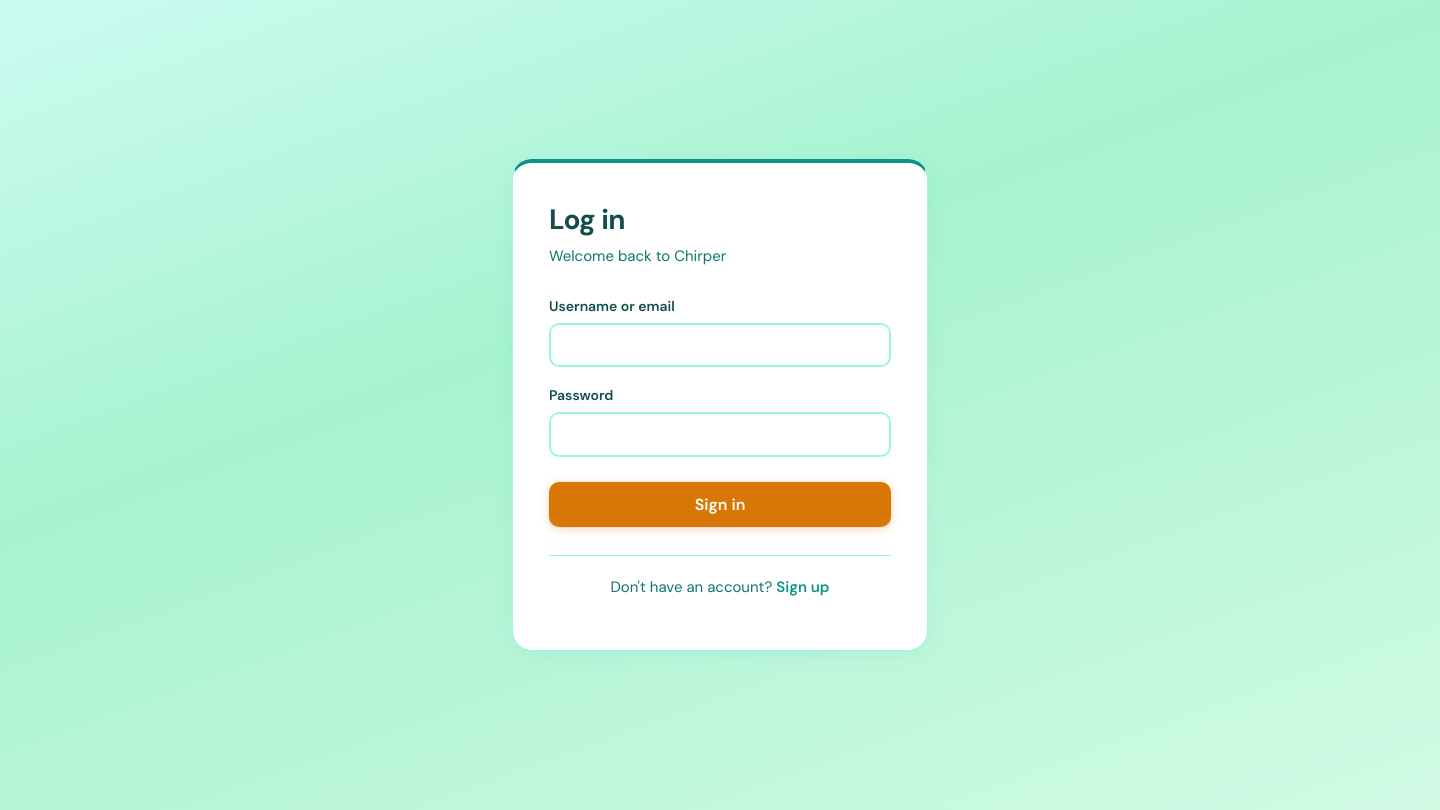
Test: Login › shows error on 401
Type "alice" into the field labelled "Username or email" at (720, 345), box [549,323,891,367]
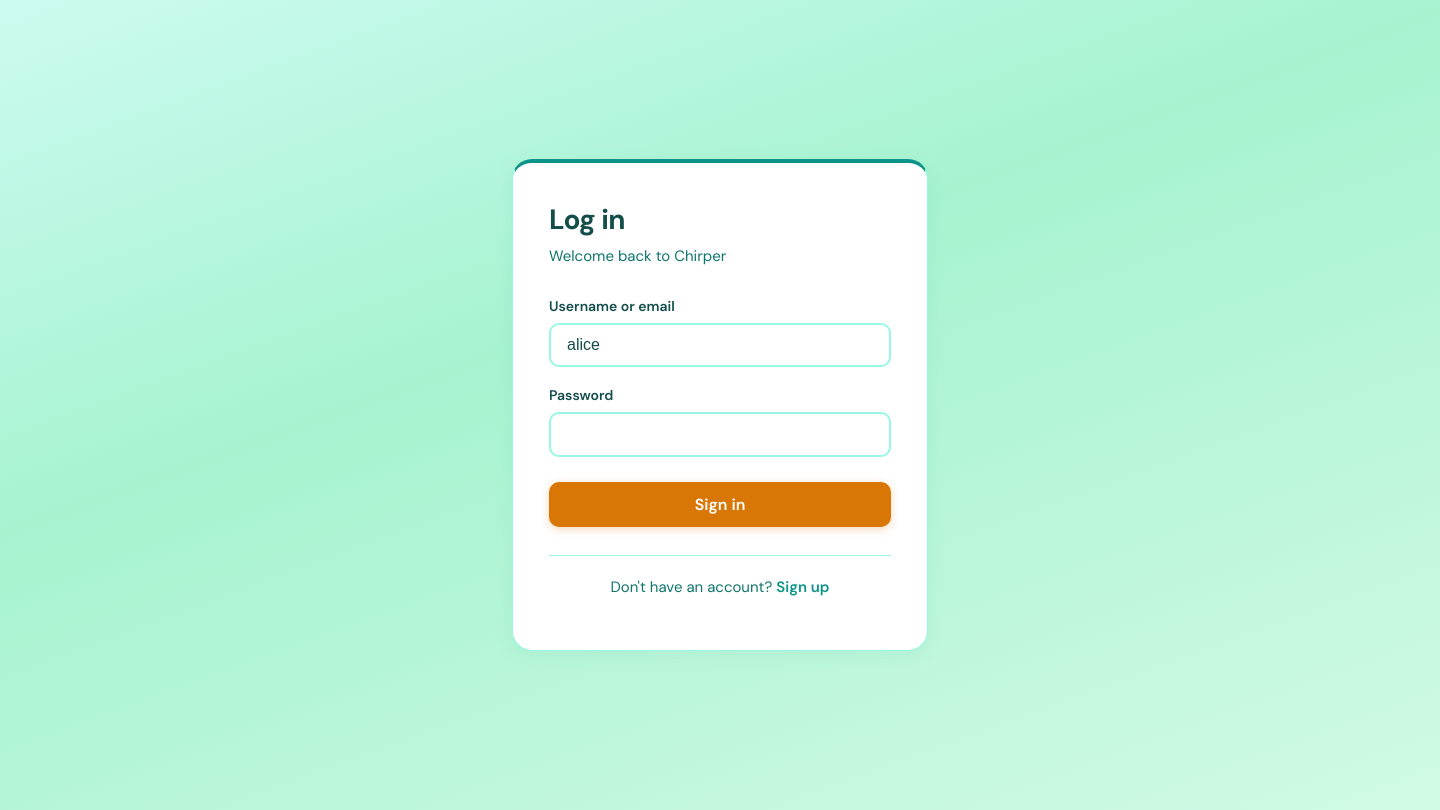
Type "wrong" into the password field labelled "Password" at (720, 435), box [549,412,891,457]
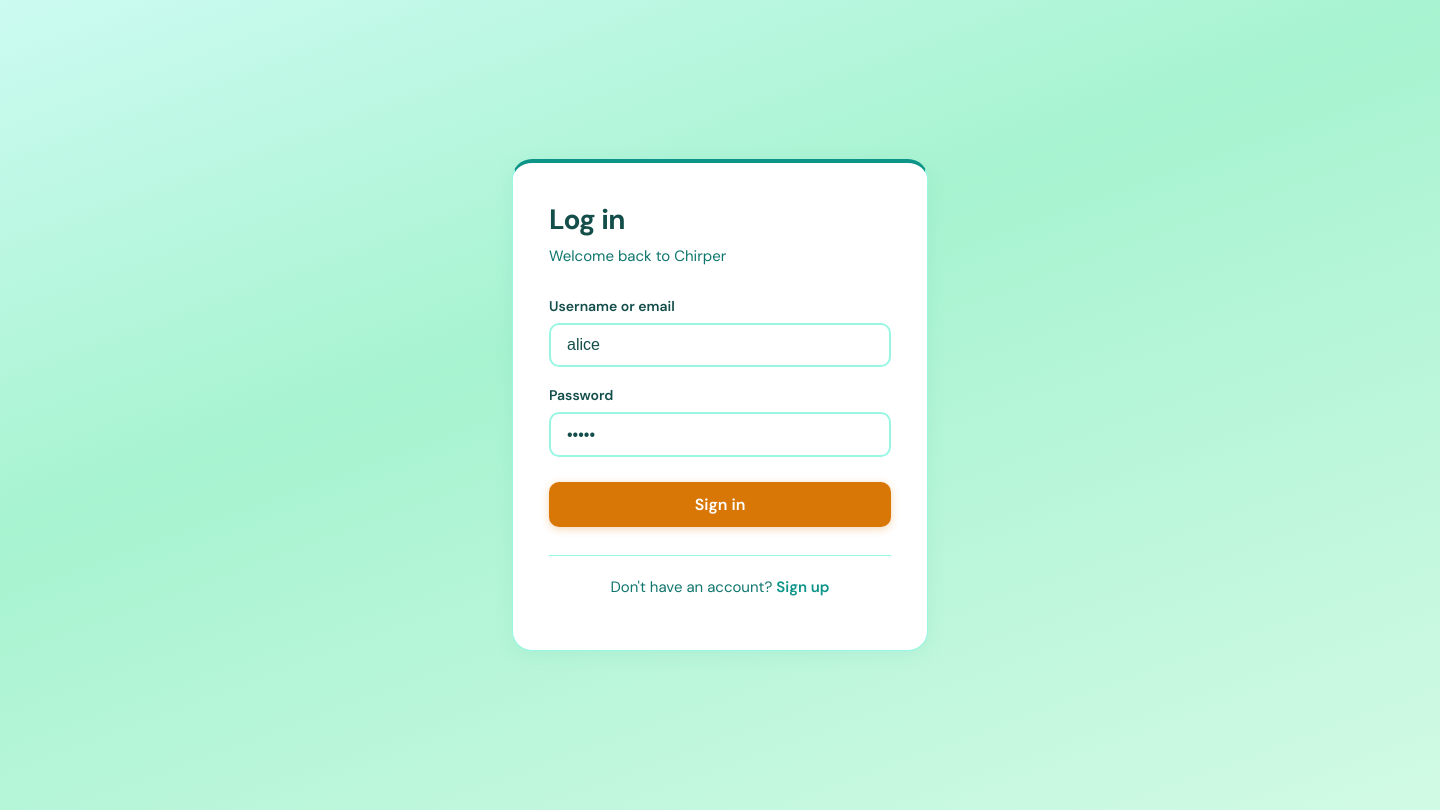
Click the button "Sign in" at (720, 505), box [549,482,891,527]
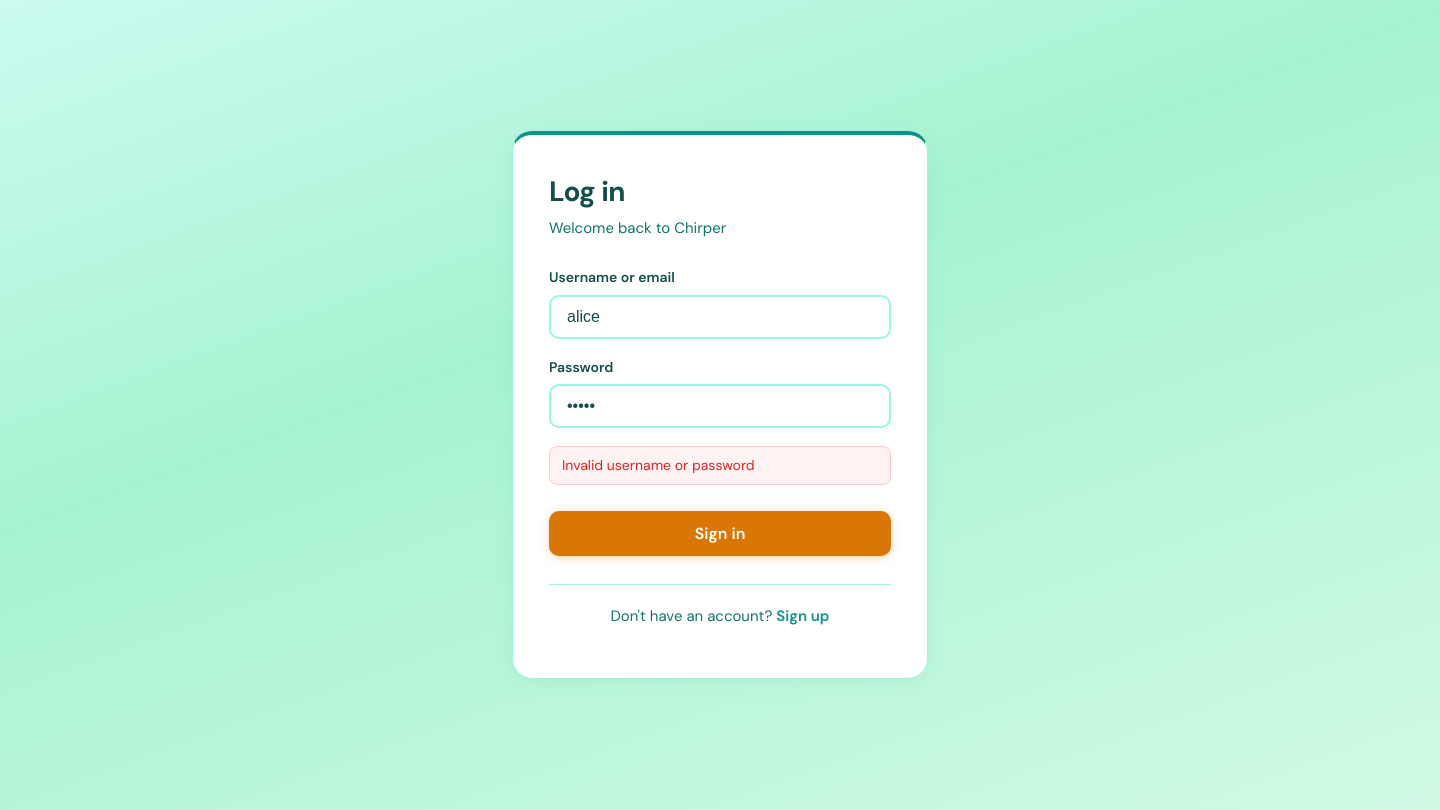
expect the message reads "Invalid username or password": met, box [562,456,755,474]
